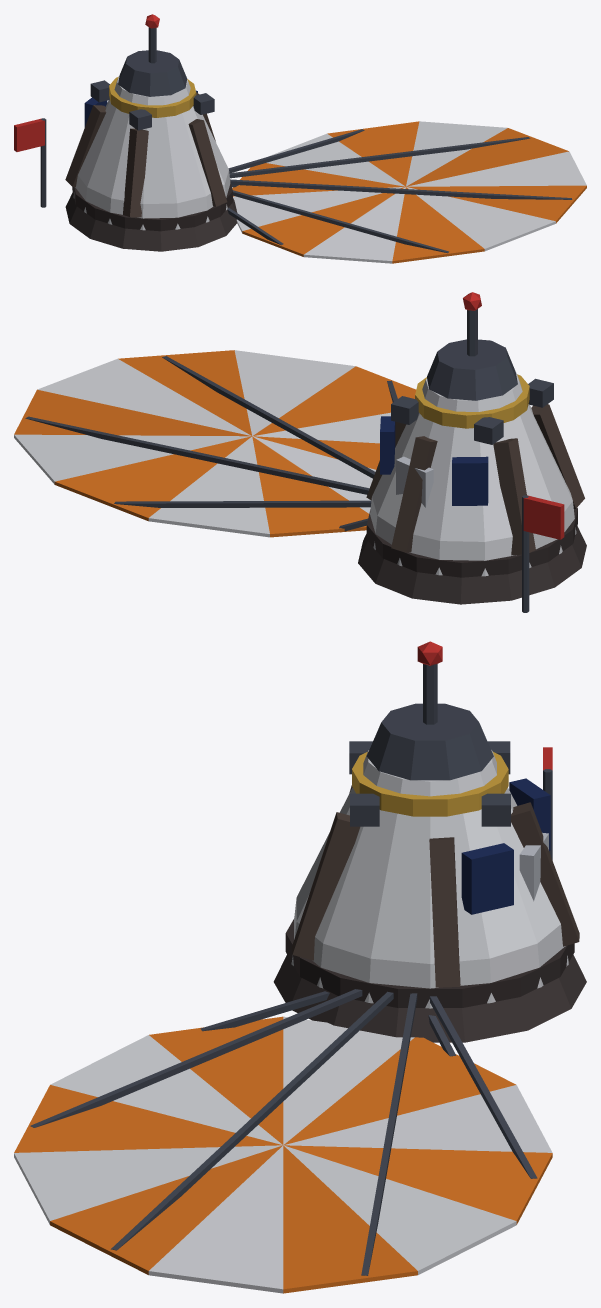
The model's file is Decor_LaunchPad_Capsule.fbx.
3 views of the same model, one above another, from view 1: azimuth 30°, elevation 25°; view 2: azimuth 150°, elevation 25°; view 3: azimuth 270°, elevation 25° (orthographic). The views are drawn at different scales.
Parts seen in each view (by area): view 1: Capsule_Body; view 2: Capsule_Body; view 3: Capsule_Body.
Part boxes in pixels (left/top/right/bottom): Capsule_Body: left=14, top=14, right=586, bottom=263; Capsule_Body: left=14, top=292, right=586, bottom=612; Capsule_Body: left=14, top=641, right=586, bottom=1293.
Bounding box in the file's own units: 19.2 × 7.7 × 11.7.
